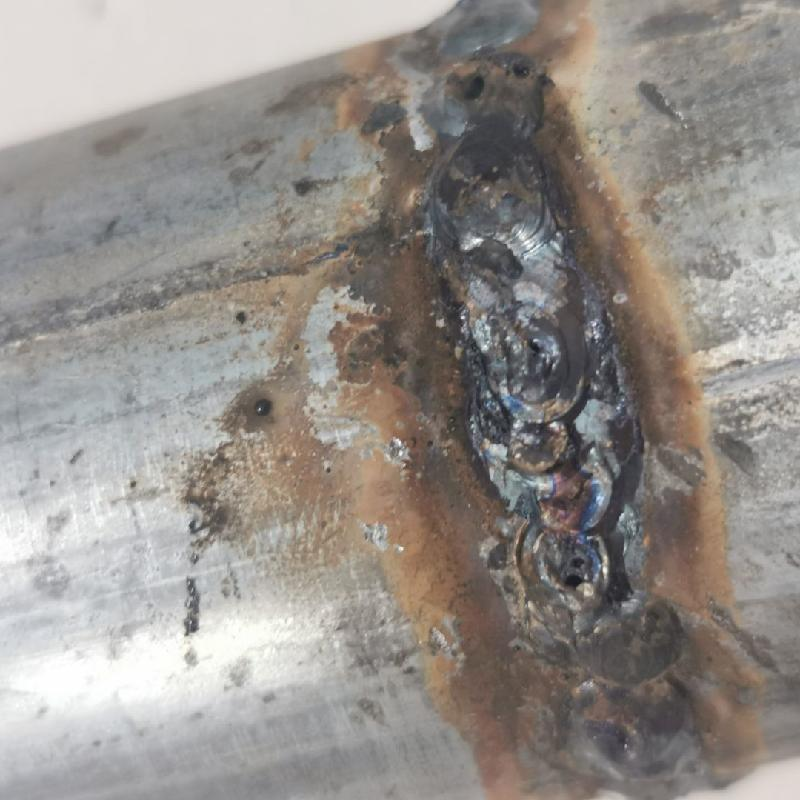Surface_pores: (451, 47, 537, 107), (559, 545, 599, 595), (603, 715, 639, 764)
crater: (454, 284, 635, 607)
wrong_size: (416, 1, 580, 274), (539, 615, 717, 797)
